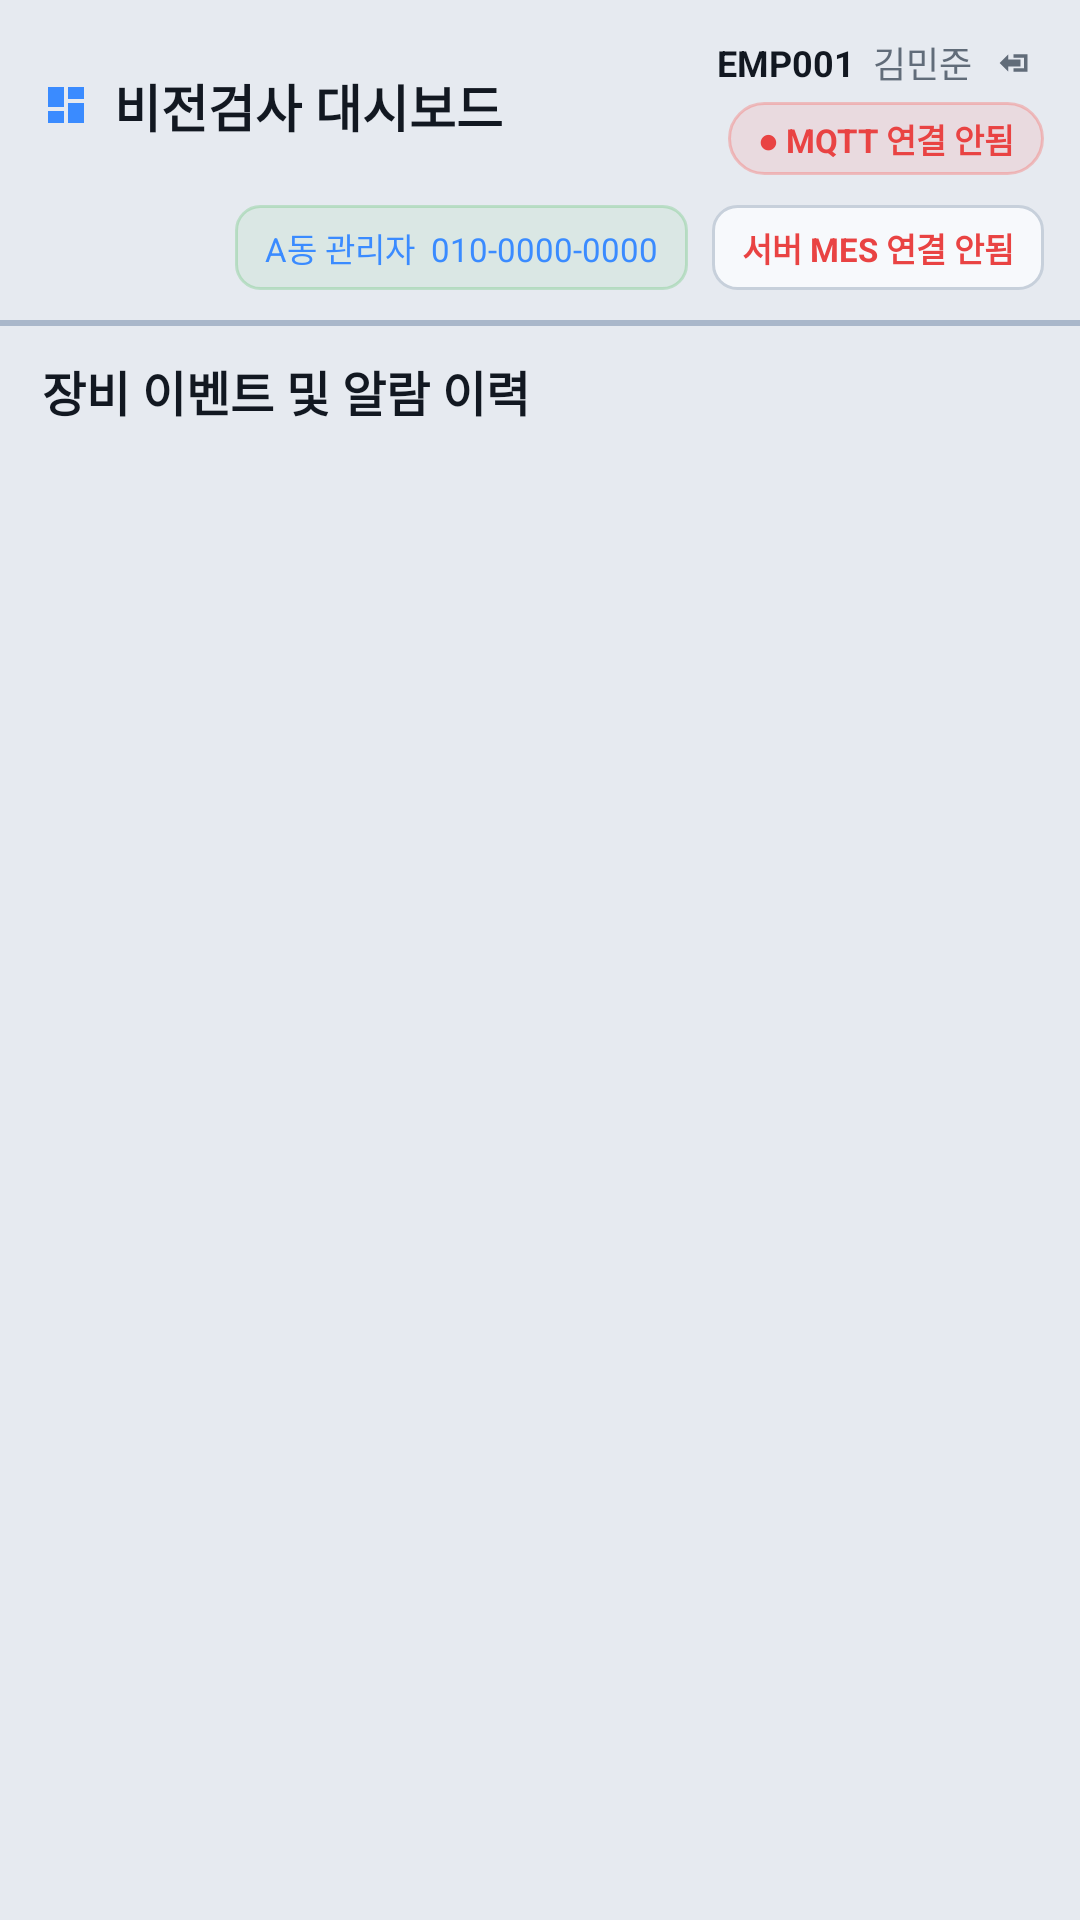

Locate icon controls on the screen. Image size 1080*1920, boxes as (x1, y1, x2, y2).
dashboard: (48, 87, 84, 123)
